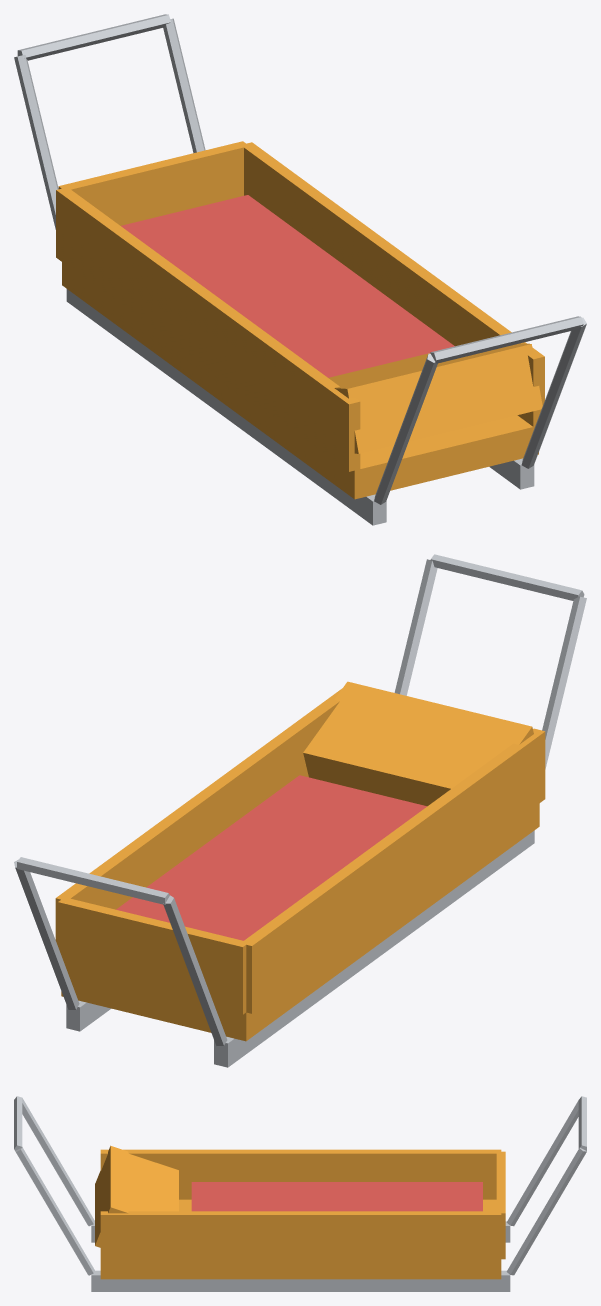
Rendered from ski-resort-and-snow-park-patrol-sled-c5b8f861__26006.glb.
The picture shows the model from 3 angles, top to bottom: view 1: azimuth 30°, elevation 25°; view 2: azimuth 150°, elevation 25°; view 3: azimuth 270°, elevation 25°; orthographic projection. The views are drawn at different scales.
Parts seen in each view (by area): view 1: patrol-sled; view 2: patrol-sled; view 3: patrol-sled.
Boxes of the visible parts, left/top/right/bottom form: patrol-sled: left=14, top=14, right=586, bottom=525; patrol-sled: left=14, top=554, right=586, bottom=1067; patrol-sled: left=14, top=1096, right=586, bottom=1291.
Size of the model in its own units: 0.8501 by 0.8738 by 3.15.
